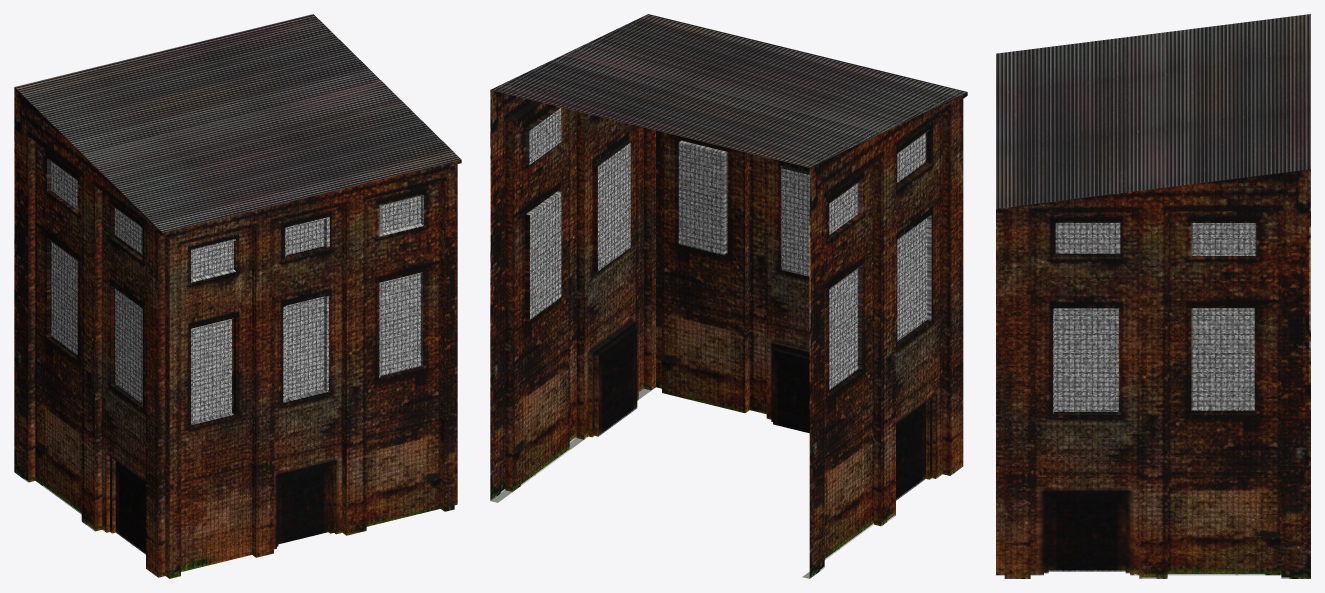
The model's file is Midground_build1.fbx.
The picture shows the model from 3 angles, left to right: view 1: azimuth 30°, elevation 25°; view 2: azimuth 150°, elevation 25°; view 3: azimuth 270°, elevation 25°; orthographic projection. The views are drawn at different scales.
Visible parts, largest first — view 1: MidGround_building; view 2: MidGround_building; view 3: MidGround_building.
Part boxes in pixels (box(x1,y1,x2,y2)): MidGround_building: box(14, 14, 461, 578); MidGround_building: box(490, 14, 967, 578); MidGround_building: box(996, 14, 1310, 578).
Size of the model in its own units: 84 by 103 by 72.
1 material, 1 textured.
